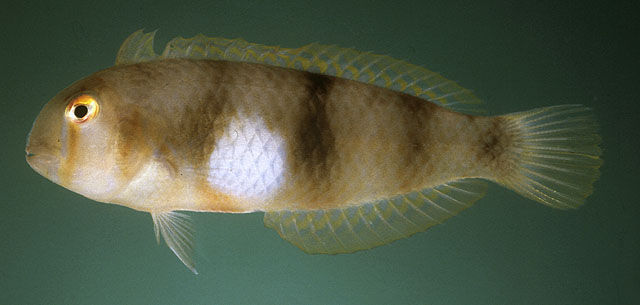fish: (24, 27, 603, 277)
